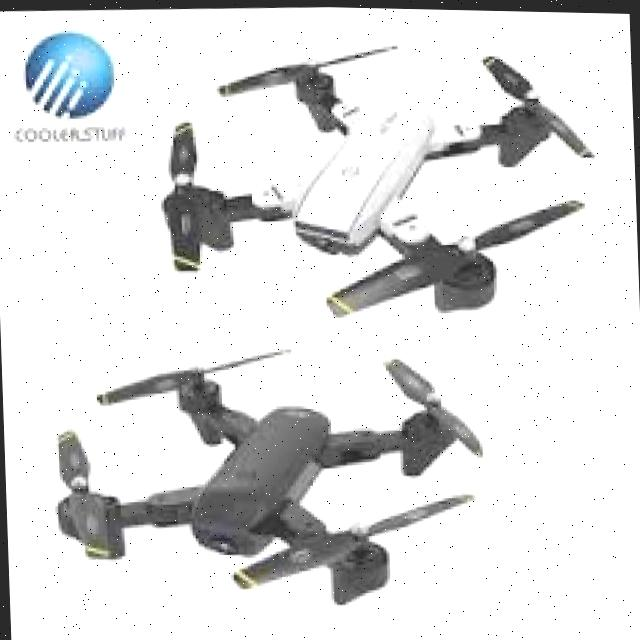drone: (144, 11, 611, 364), (24, 335, 496, 615)
